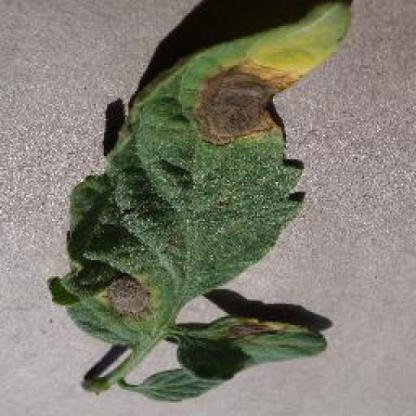Tomato_Blight: (51, 0, 357, 399)
